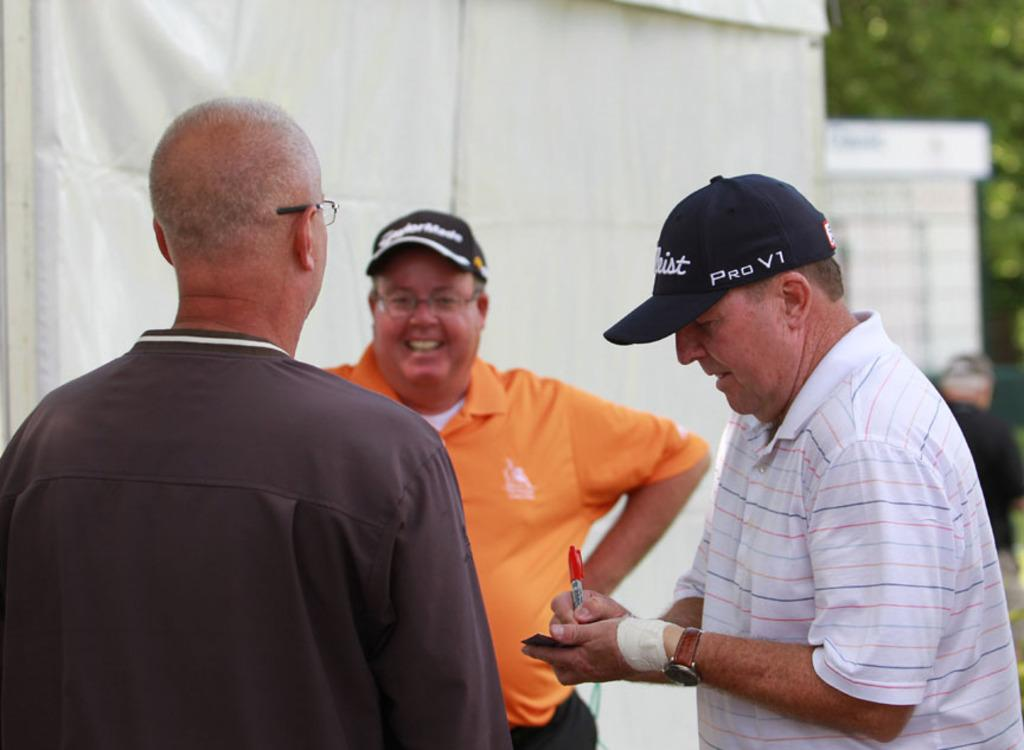Hat: (598, 168, 835, 346), (361, 207, 490, 284)
